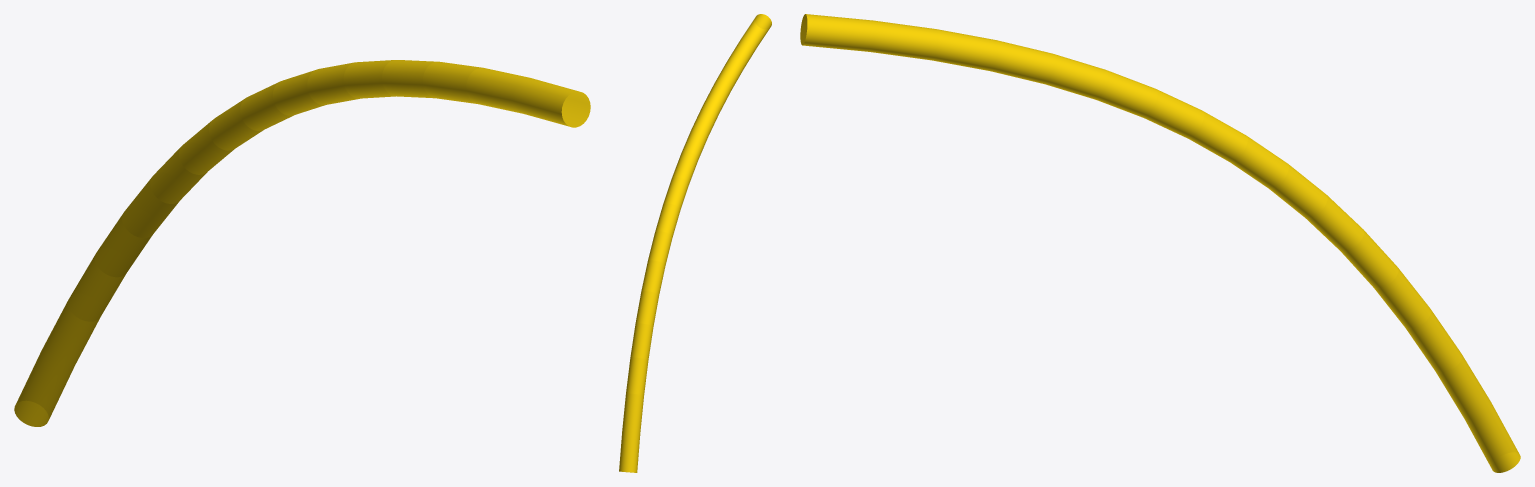
Rendered from Event_421364160_track_46.fbx.
The picture shows the model from 3 angles, left to right: view 1: azimuth 30°, elevation 25°; view 2: azimuth 150°, elevation 25°; view 3: azimuth 270°, elevation 25°; orthographic projection. The views are drawn at different scales.
Visible parts, largest first — view 1: Model; view 2: Model; view 3: Model.
Part boxes in pixels (bbox=[...]): Model: bbox=[14, 60, 590, 426]; Model: bbox=[619, 14, 771, 472]; Model: bbox=[800, 14, 1520, 472].
Size of the model in its own units: 0.2115 by 0.7117 by 0.9096.
